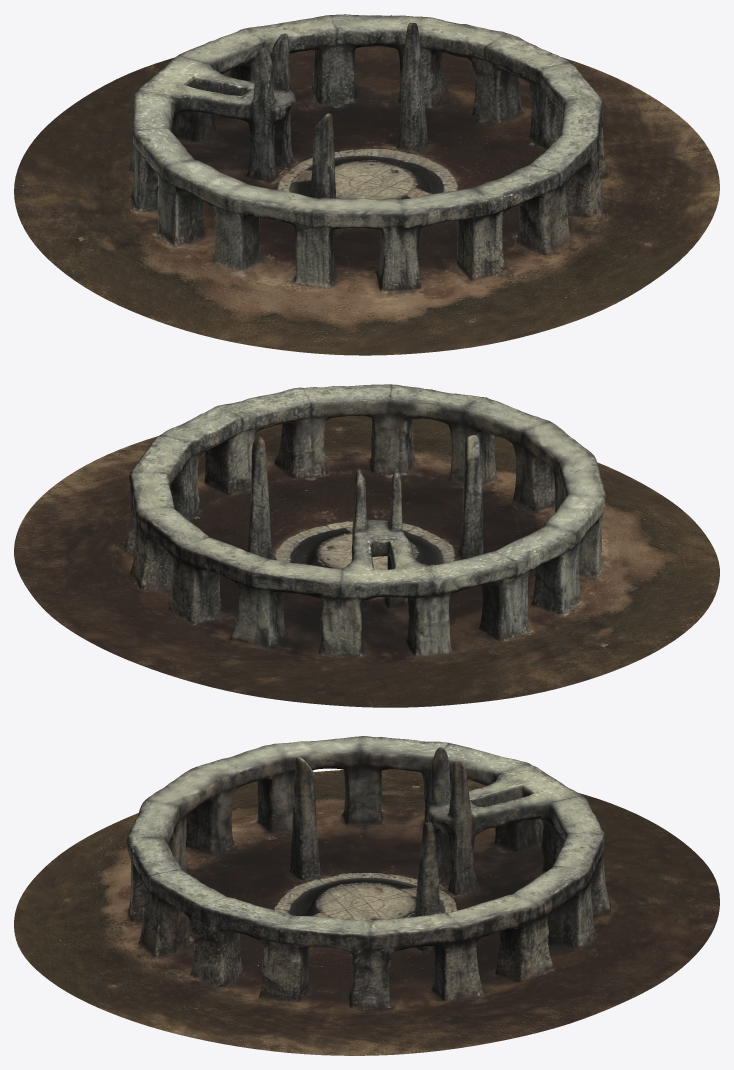
3 views of the same model, one above another, from view 1: azimuth 30°, elevation 25°; view 2: azimuth 150°, elevation 25°; view 3: azimuth 270°, elevation 25° (orthographic).
Visible parts, largest first — view 1: Stone-material; view 2: Stone-material; view 3: Stone-material.
Part boxes in pixels (x1=…): Stone-material: x1=14, y1=14, x2=719, y2=355; Stone-material: x1=14, y1=384, x2=719, y2=707; Stone-material: x1=14, y1=736, x2=719, y2=1055.
Bounding box in the file's own units: 6.89 × 1.61 × 6.89.
Materials: 1 (1 with a texture image).
